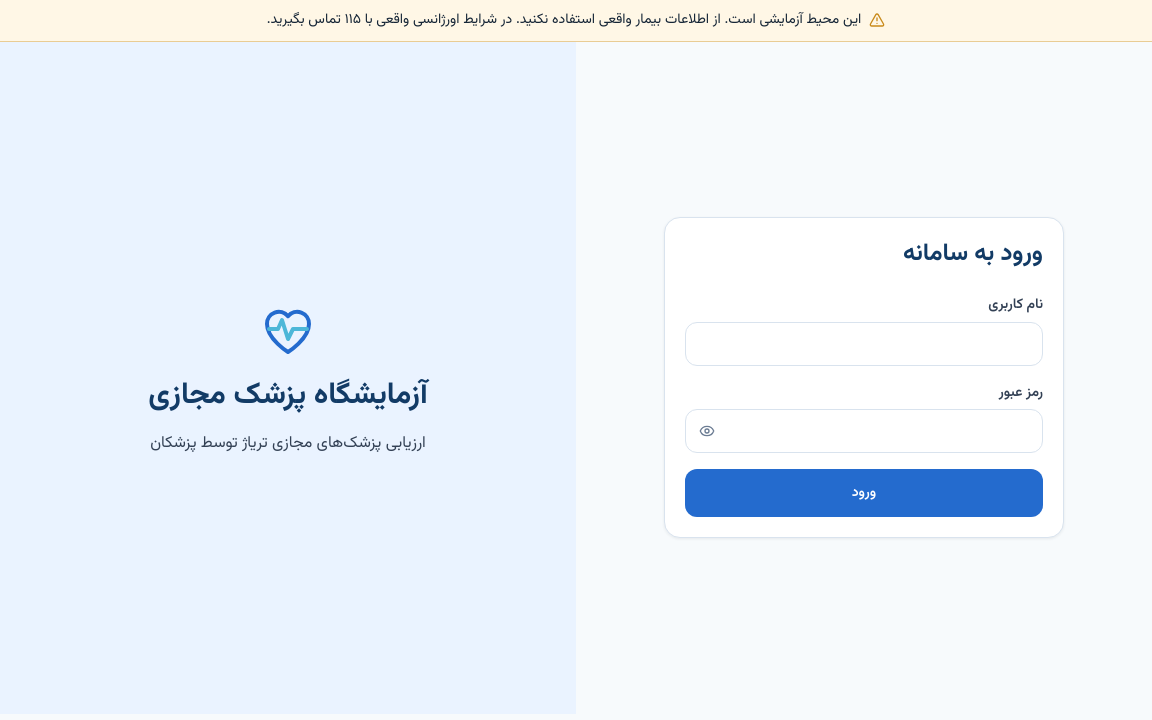
Scenario: login › signs in against the mocks and lands on the doctors list
Type "doctor" into the field labelled "نام کاربری" at (864, 344), box [685, 322, 1043, 366]
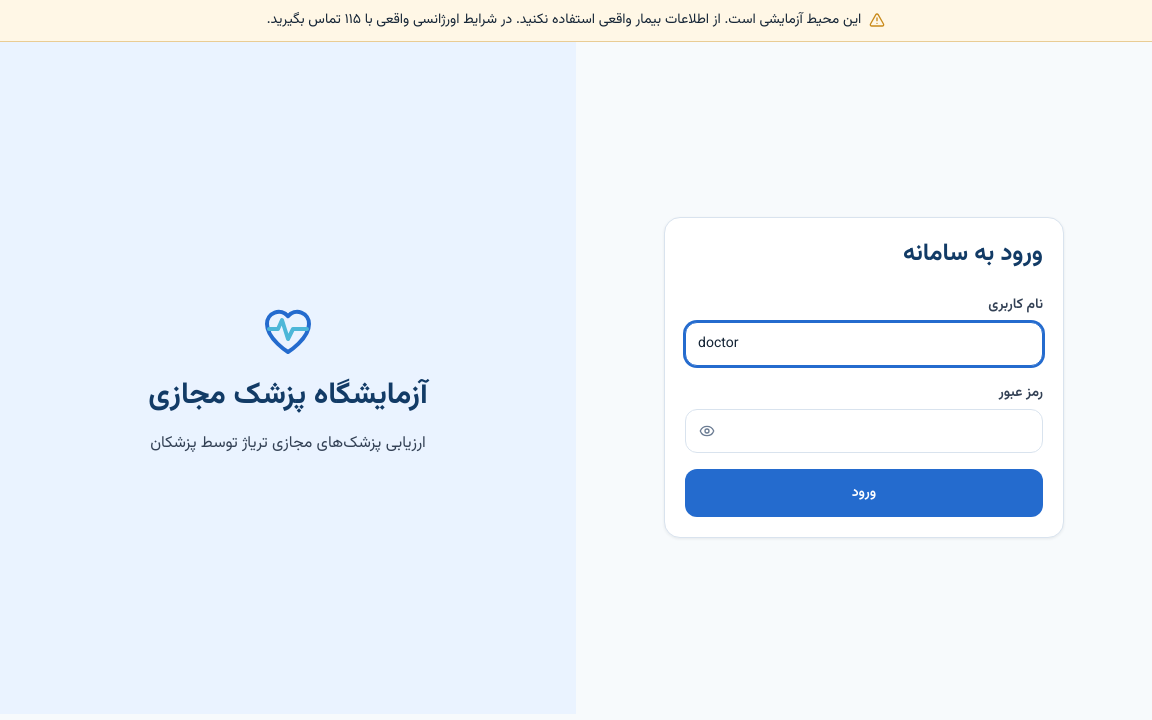
Type "doctor123" into the password field labelled "رمز عبور" at (864, 432), box [685, 410, 1043, 454]
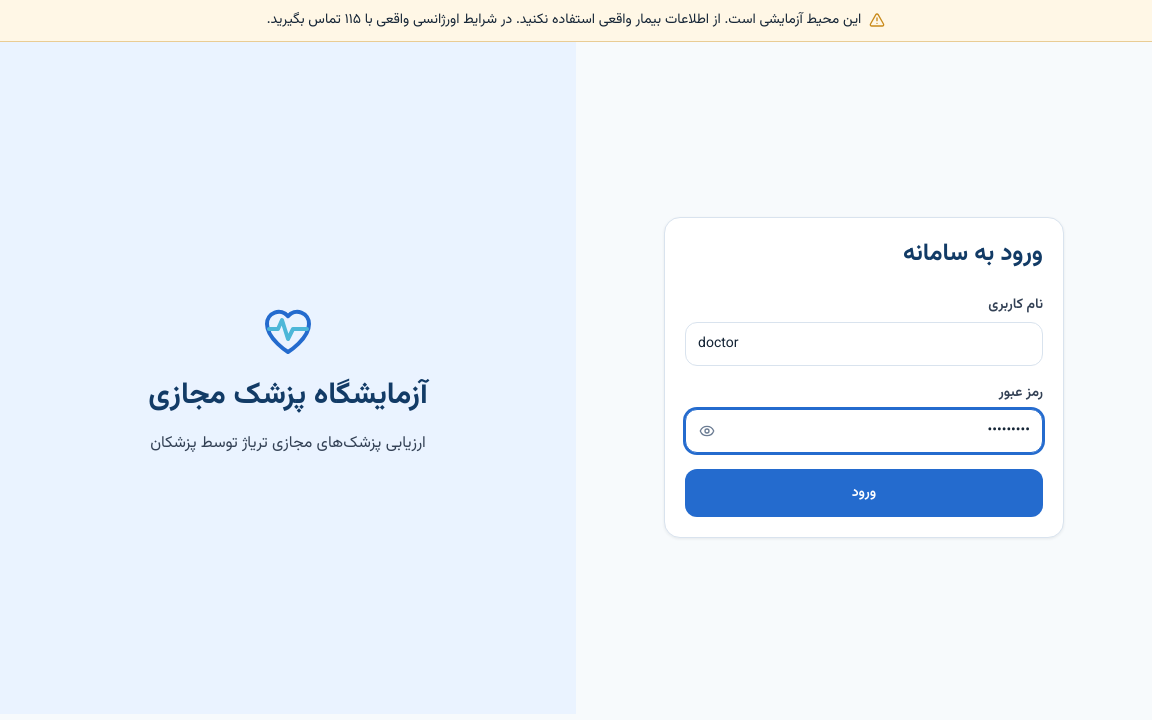
Click the button "ورود" at (864, 494), box [685, 470, 1043, 518]
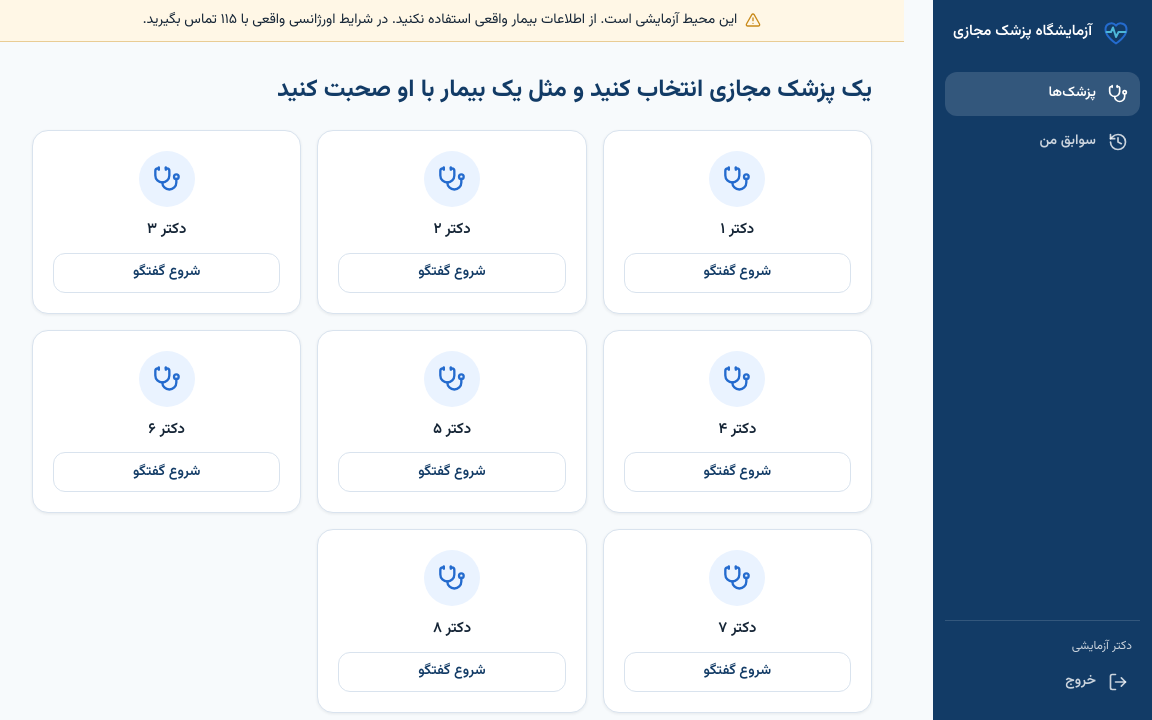
Expected: the heading "یک پزشک مجازی انتخاب کنید و مثل یک بیمار با او صحبت کنید" is shown, [277, 70, 872, 108]
Expected: the text with test id "header-display-name" reads "دکتر آزمایشی", [1072, 637, 1132, 655]
